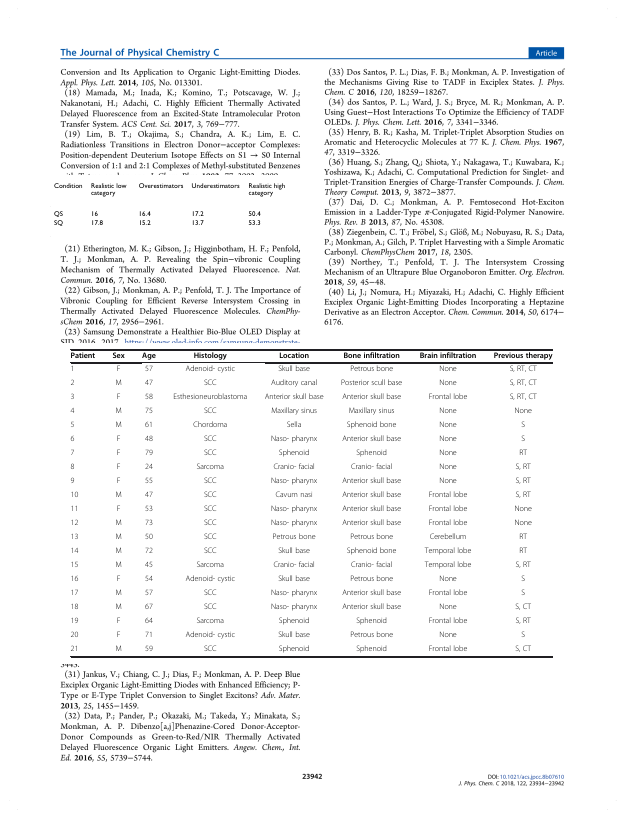borderless: (69, 348, 552, 656), (48, 180, 288, 238)
cell: (172, 393, 248, 403), (340, 379, 403, 389), (247, 182, 286, 198), (341, 393, 402, 403), (341, 435, 402, 445), (341, 477, 402, 487), (341, 491, 402, 501), (341, 505, 402, 515), (341, 519, 402, 529), (341, 589, 402, 599), (341, 603, 402, 613), (89, 182, 127, 198), (264, 393, 324, 403), (493, 352, 553, 361), (342, 352, 401, 361), (419, 352, 477, 361), (184, 365, 236, 375), (184, 575, 236, 585), (184, 631, 236, 641), (346, 421, 397, 431), (346, 547, 397, 557), (270, 379, 318, 389), (270, 407, 318, 417), (270, 435, 318, 445), (270, 477, 318, 487), (270, 505, 318, 515), (270, 519, 318, 529), (424, 547, 472, 557), (424, 561, 472, 571), (270, 589, 318, 599), (270, 603, 318, 613), (348, 407, 395, 417), (349, 365, 394, 375), (349, 533, 394, 543), (349, 575, 394, 585), (349, 631, 394, 641), (190, 182, 240, 191), (272, 463, 316, 473), (272, 533, 316, 543), (272, 561, 316, 571), (350, 463, 393, 473), (350, 561, 393, 571), (137, 182, 184, 191), (428, 393, 468, 403), (274, 491, 314, 501), (428, 491, 468, 501), (428, 505, 468, 515), (428, 519, 468, 529), (428, 589, 468, 599), (428, 617, 468, 627), (428, 645, 468, 655), (429, 533, 467, 543), (192, 421, 228, 431), (277, 365, 311, 375), (277, 547, 311, 557), (277, 575, 311, 585), (277, 631, 311, 641), (355, 449, 388, 459), (355, 617, 388, 627), (355, 645, 388, 655), (278, 449, 310, 459), (278, 617, 310, 627), (278, 645, 310, 655), (193, 352, 228, 361), (195, 463, 225, 473), (195, 561, 225, 571), (195, 617, 225, 627), (509, 365, 538, 375), (509, 379, 538, 389), (509, 393, 538, 403), (278, 352, 310, 361), (53, 182, 83, 191), (70, 352, 96, 361), (438, 365, 458, 375), (438, 379, 458, 389), (438, 407, 458, 417), (513, 407, 533, 417), (438, 421, 458, 431), (438, 435, 458, 445), (438, 449, 458, 459), (438, 463, 458, 473), (438, 477, 458, 487), (513, 505, 533, 515), (513, 519, 533, 529), (438, 575, 458, 585), (438, 603, 458, 613), (438, 631, 458, 641), (514, 603, 532, 613), (514, 645, 532, 655), (515, 463, 532, 473), (515, 477, 532, 487), (515, 491, 532, 501), (515, 561, 532, 571), (515, 617, 532, 627), (286, 421, 302, 431), (141, 352, 157, 361), (203, 379, 217, 389), (203, 407, 217, 417), (203, 435, 217, 445), (203, 449, 217, 459), (203, 477, 217, 487), (203, 491, 217, 501), (203, 505, 217, 515), (203, 519, 217, 529), (203, 533, 217, 543), (203, 547, 217, 557), (203, 589, 217, 599), (203, 603, 217, 613), (203, 645, 217, 655), (111, 352, 126, 361), (137, 210, 151, 219), (190, 210, 204, 219), (247, 210, 261, 219), (89, 219, 103, 228), (137, 219, 151, 228), (190, 219, 204, 228), (247, 219, 261, 228), (144, 365, 154, 375), (144, 379, 154, 389), (144, 393, 154, 403), (144, 407, 154, 417), (144, 421, 154, 431), (144, 435, 154, 445), (144, 449, 154, 459), (518, 449, 528, 459), (144, 463, 154, 473), (144, 477, 154, 487), (144, 491, 154, 501), (144, 505, 154, 515), (144, 519, 154, 529), (144, 533, 154, 543), (518, 533, 528, 543), (144, 547, 154, 557), (518, 547, 528, 557), (144, 561, 154, 571), (144, 575, 154, 585), (144, 589, 154, 599), (144, 603, 154, 613), (144, 617, 154, 627), (144, 631, 154, 641), (144, 645, 154, 655), (114, 379, 123, 389), (114, 407, 123, 417), (114, 421, 123, 431), (70, 491, 79, 501), (114, 491, 123, 501), (70, 505, 79, 515), (70, 519, 79, 529), (114, 519, 123, 529), (70, 533, 79, 543), (114, 533, 123, 543), (70, 547, 79, 557), (114, 547, 123, 557), (70, 561, 79, 571), (114, 561, 123, 571), (70, 575, 79, 585), (70, 589, 79, 599), (114, 589, 123, 599), (70, 603, 79, 613), (114, 603, 123, 613), (70, 617, 79, 627), (70, 631, 79, 641), (70, 645, 79, 655), (114, 645, 123, 655), (53, 210, 63, 219), (53, 219, 63, 228), (89, 210, 98, 219), (520, 421, 526, 431), (520, 435, 526, 445), (520, 575, 526, 585), (520, 589, 526, 599), (520, 631, 526, 641), (70, 365, 75, 375), (116, 365, 121, 375), (70, 379, 75, 389), (70, 393, 75, 403), (116, 393, 121, 403), (70, 407, 75, 417), (70, 421, 75, 431), (70, 435, 75, 445), (116, 435, 121, 445), (70, 449, 75, 459), (116, 449, 121, 459), (70, 463, 75, 473), (116, 463, 121, 473), (70, 477, 75, 487), (116, 477, 121, 487), (116, 505, 121, 515), (116, 575, 121, 585), (116, 617, 121, 627), (116, 631, 121, 641)
